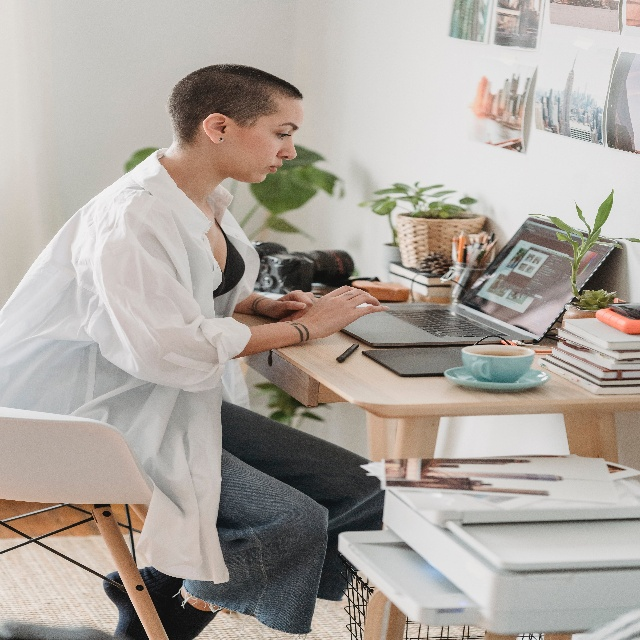Sin_guantes: (304, 283, 390, 338), (270, 288, 319, 321)
